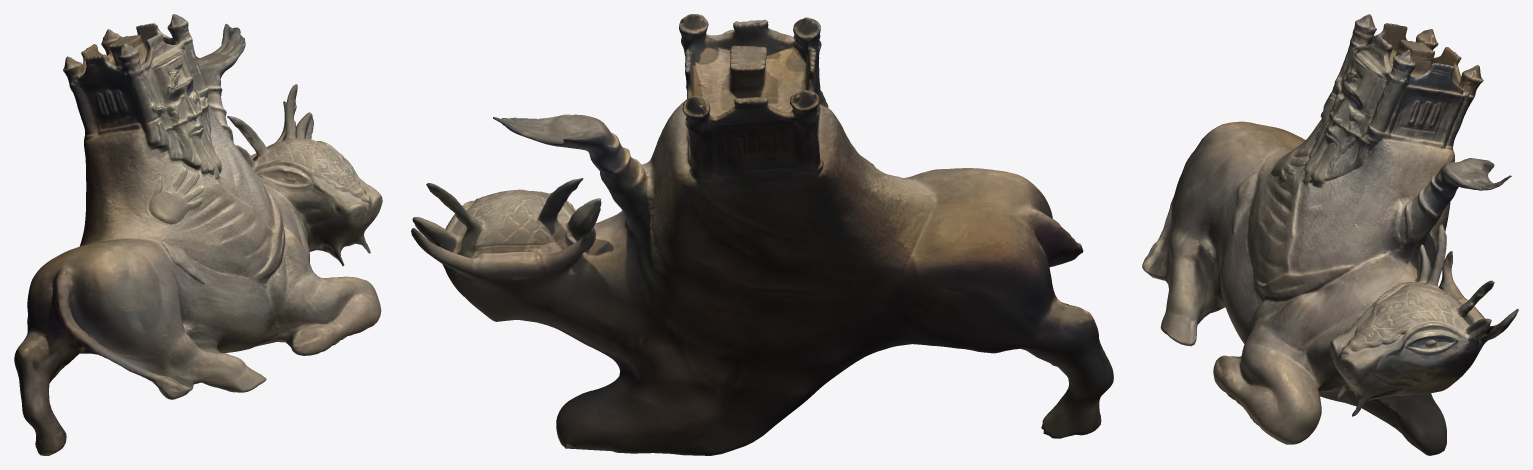
Rendered from escultura1.glb.
3 renders of one model, left to right at view 1: azimuth 30°, elevation 25°; view 2: azimuth 150°, elevation 25°; view 3: azimuth 270°, elevation 25°, orthographic. The views are drawn at different scales.
Parts seen in each view (by area): view 1: 3DModel; view 2: 3DModel; view 3: 3DModel.
Part boxes in pixels (box(x1,y1,x2,y2)): 3DModel: box(14, 14, 382, 455); 3DModel: box(411, 14, 1113, 455); 3DModel: box(1142, 14, 1518, 455).
Size of the model in its own units: 1.2 by 0.938 by 0.8802.
1 material, 1 textured.
